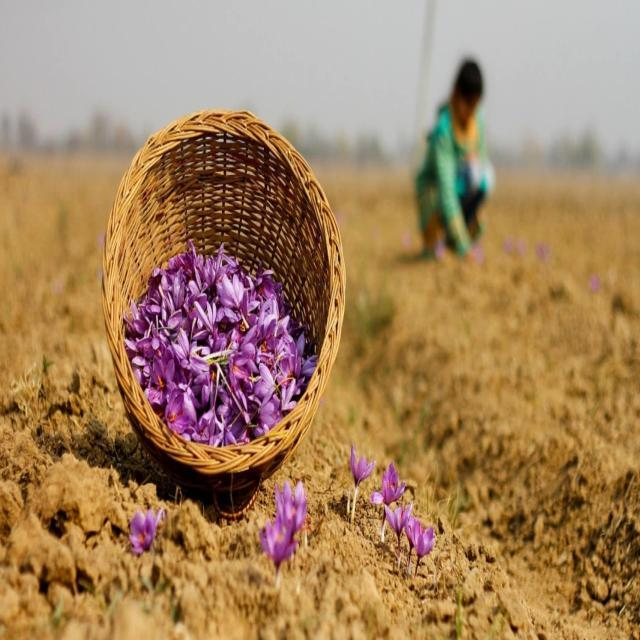Flower: (127, 237, 314, 429), (256, 479, 320, 568), (383, 454, 412, 548), (126, 506, 166, 552), (347, 444, 374, 508), (410, 520, 438, 566)
stigma: (258, 332, 278, 371)
